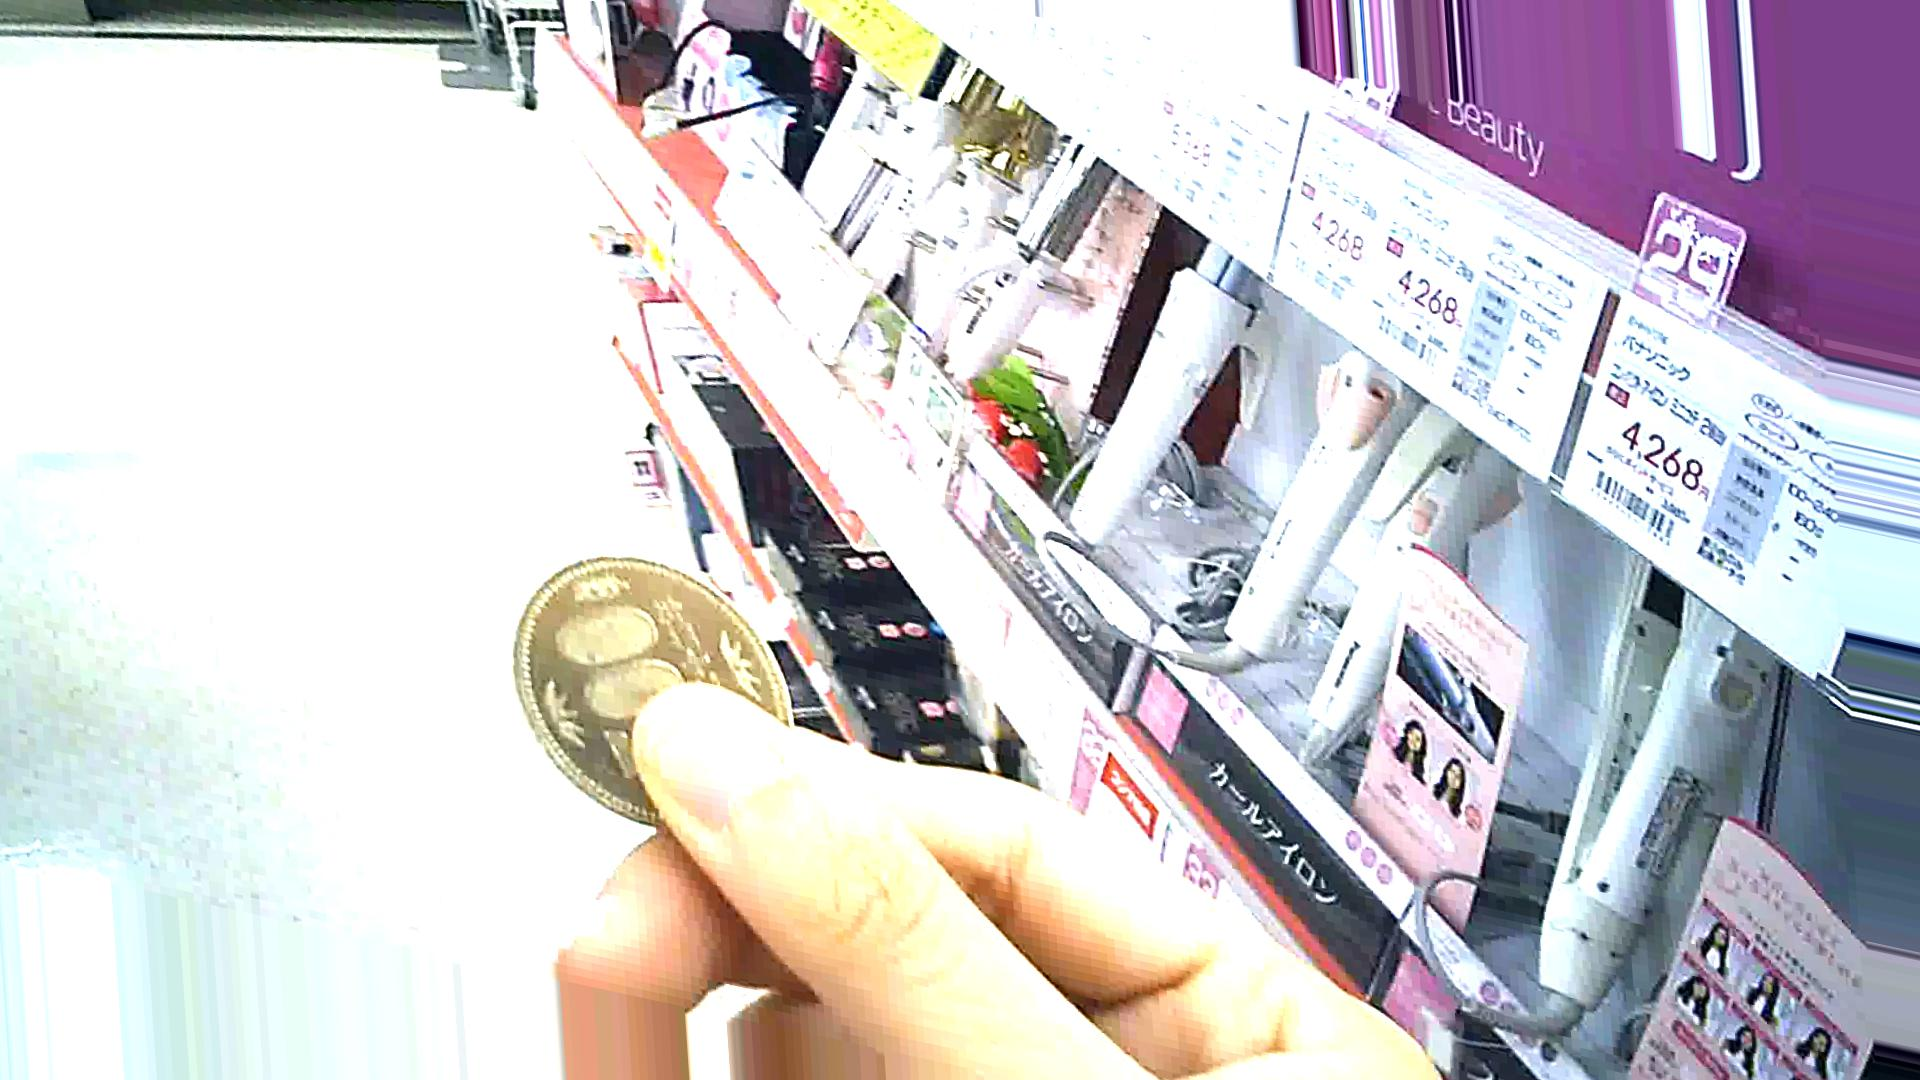500 Yen: (509, 553, 791, 822)
